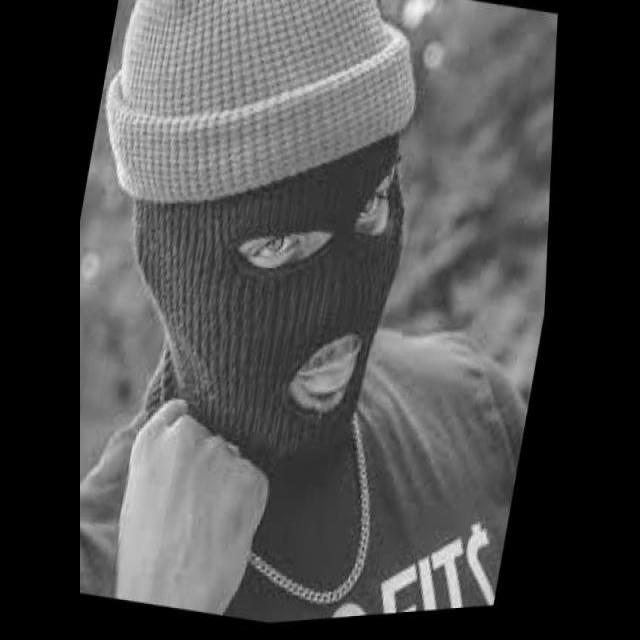6_pasamontana: (107, 0, 418, 469)
